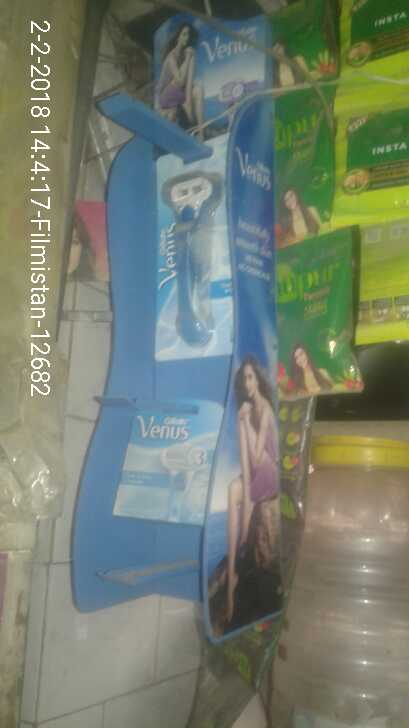venus: (143, 146, 238, 364), (96, 401, 217, 523)
